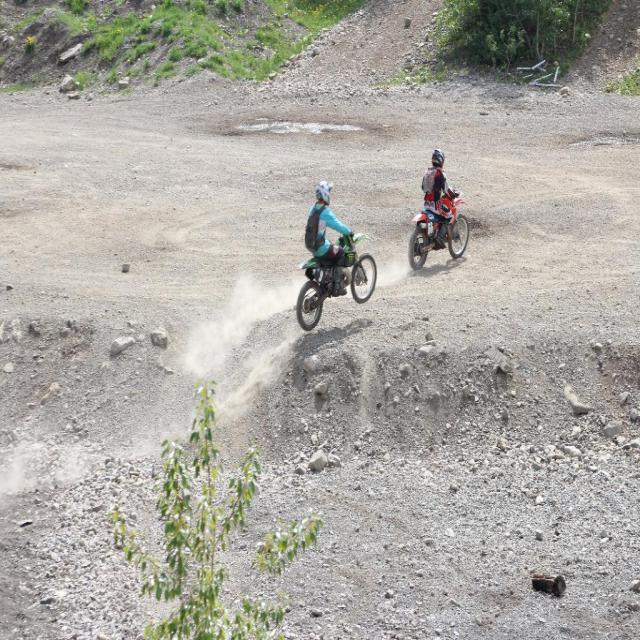Motorbikes: (296, 179, 376, 336), (408, 150, 471, 269)
